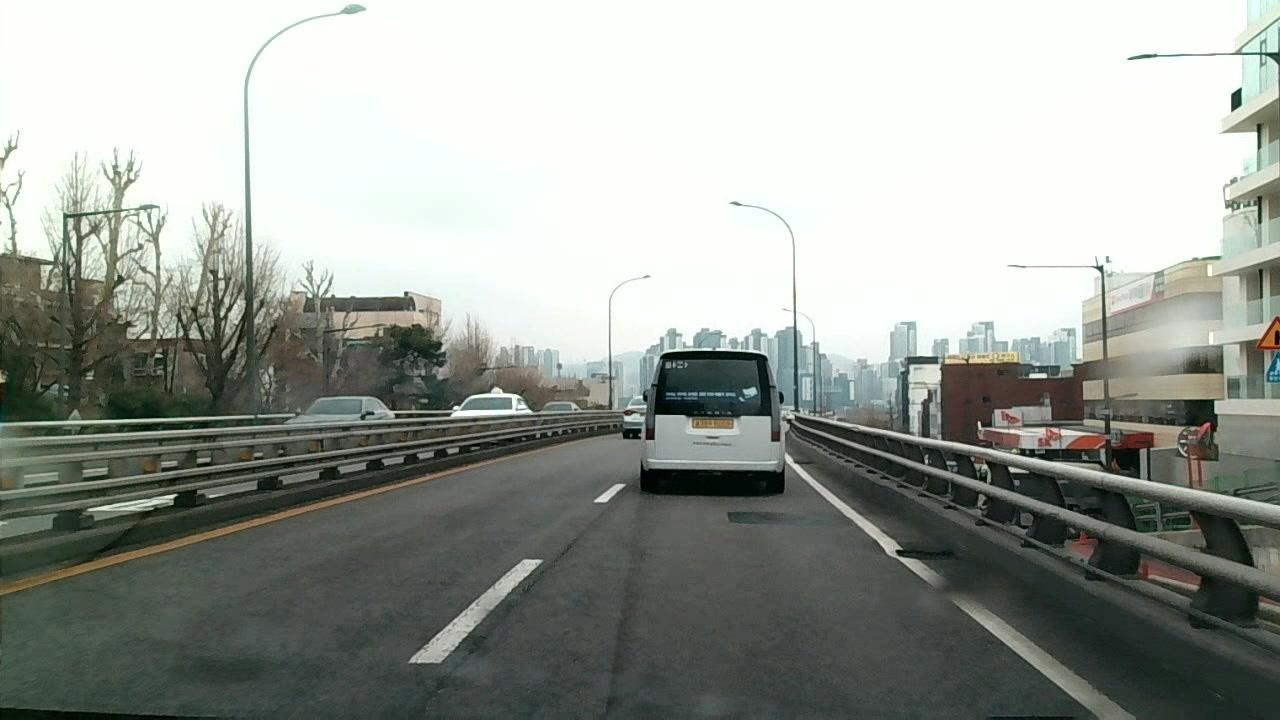vcrack: (414, 543, 576, 708)
